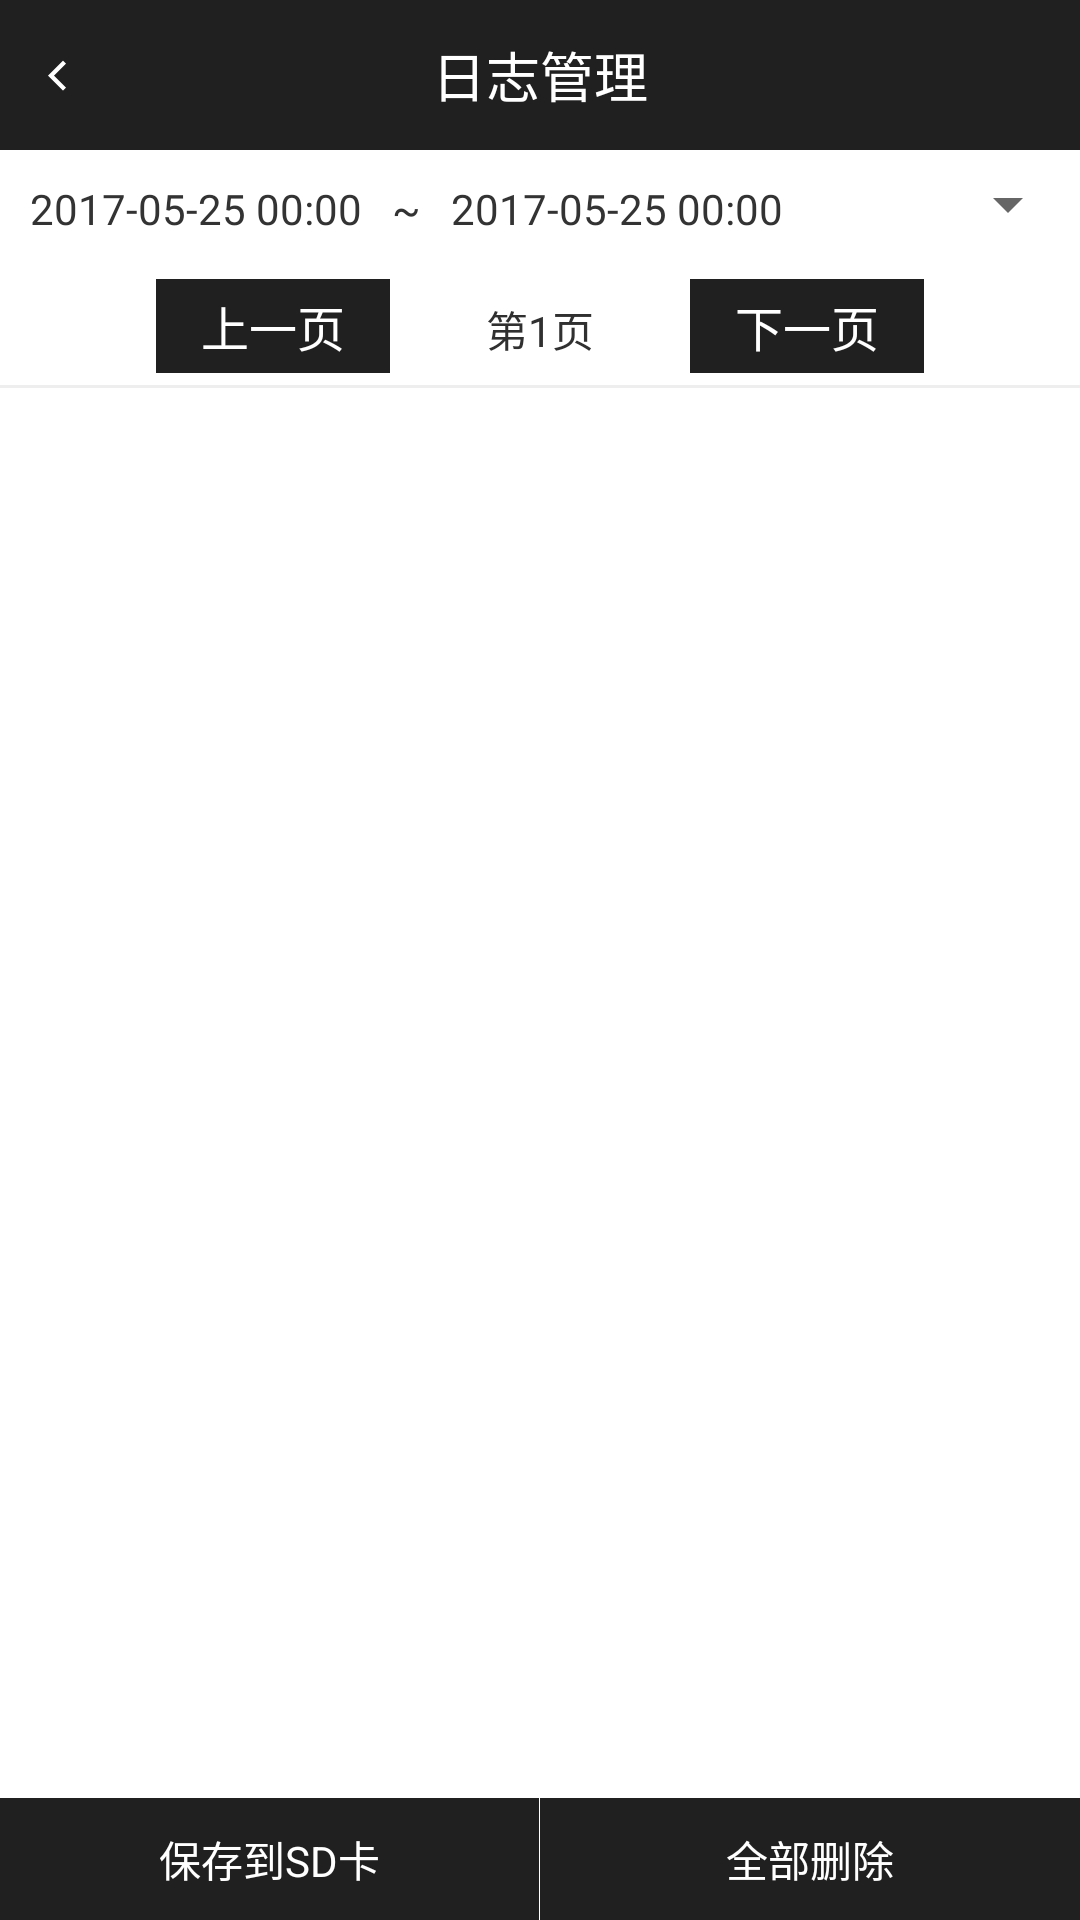

Point at icon controls on the screen. Image size 1080w x 1920h, points as (x,y).
back: (57,76)
